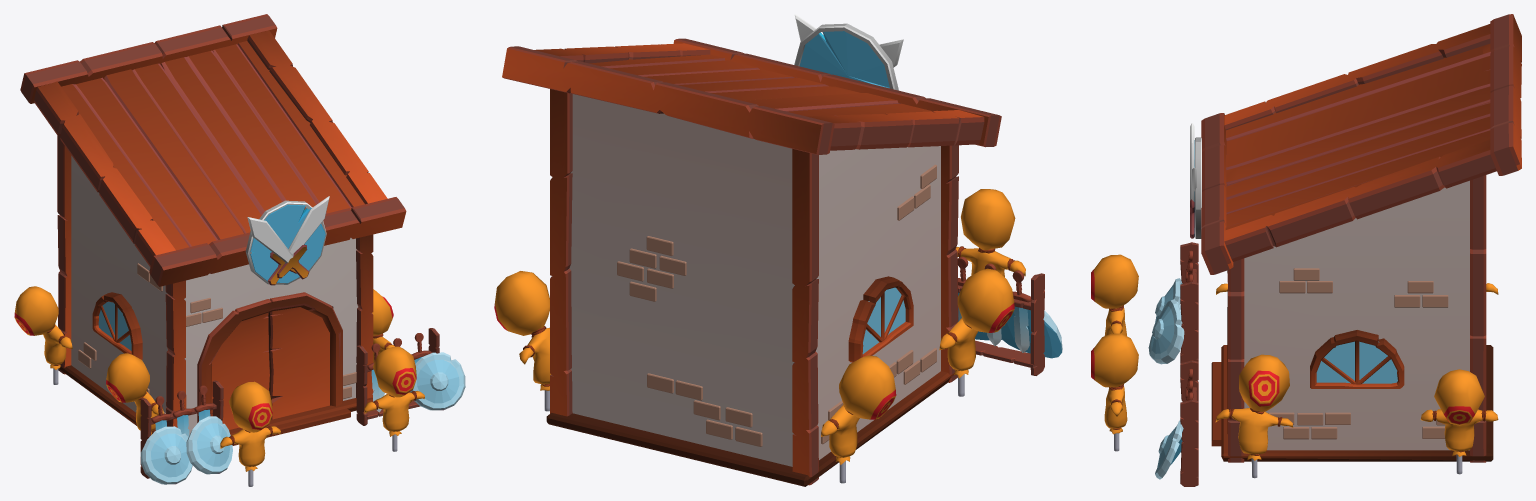
Rendered from Training_House_Sword_lvl01.fbx.
3 views of the same model, side by side, from view 1: azimuth 30°, elevation 25°; view 2: azimuth 150°, elevation 25°; view 3: azimuth 270°, elevation 25° (orthographic). The views are drawn at different scales.
Parts seen in each view (by area): view 1: Training_House_Sword, Sword_Sign, Dummy_01, Dummy_02, Dummy_04, shield_round_color2, shield_round_color, Sword_Shelf_02, Dummy_03, shield_round_color1, Sword_Shelf_01, Dummy_05; view 2: Training_House_Sword, Sword_Sign, Dummy_04, Dummy_03, Dummy_06, Sword_Shelf_02, Dummy_01, shield_round_color; view 3: Training_House_Sword, Dummy_05, Dummy_06, Dummy_02, Dummy_01, Sword_Shelf_01, Sword_Shelf_02, shield_round_color1, Sword_Sign, shield_round_color2, shield_round_color.
Part boxes in pixels (x1,y1,x2,y2): Training_House_Sword: [20, 14, 406, 445]; Sword_Sign: [245, 196, 329, 285]; Dummy_01: [220, 381, 280, 486]; Dummy_02: [364, 346, 424, 451]; Dummy_04: [14, 286, 72, 384]; shield_round_color2: [409, 352, 465, 410]; shield_round_color: [140, 426, 192, 484]; Sword_Shelf_02: [140, 380, 223, 478]; Dummy_03: [106, 353, 163, 434]; shield_round_color1: [186, 416, 232, 474]; Sword_Shelf_01: [356, 328, 439, 425]; Dummy_05: [372, 289, 394, 393]; Training_House_Sword: [502, 38, 1001, 486]; Sword_Sign: [794, 14, 903, 90]; Dummy_04: [821, 355, 896, 483]; Dummy_03: [939, 268, 1014, 396]; Dummy_06: [494, 271, 550, 411]; Sword_Shelf_02: [957, 256, 1044, 375]; Dummy_01: [955, 189, 1025, 277]; shield_round_color: [1001, 309, 1062, 358]; Training_House_Sword: [1201, 14, 1521, 462]; Dummy_05: [1215, 354, 1293, 478]; Dummy_06: [1420, 369, 1498, 474]; Dummy_02: [1091, 333, 1138, 451]; Dummy_01: [1091, 254, 1138, 335]; Sword_Shelf_01: [1180, 360, 1198, 486]; Sword_Shelf_02: [1180, 242, 1198, 362]; shield_round_color1: [1148, 299, 1184, 364]; Sword_Sign: [1190, 123, 1201, 238]; shield_round_color2: [1155, 420, 1183, 479]; shield_round_color: [1152, 278, 1182, 332].
Size of the model in its own units: 44.76 by 39.17 by 46.27.
